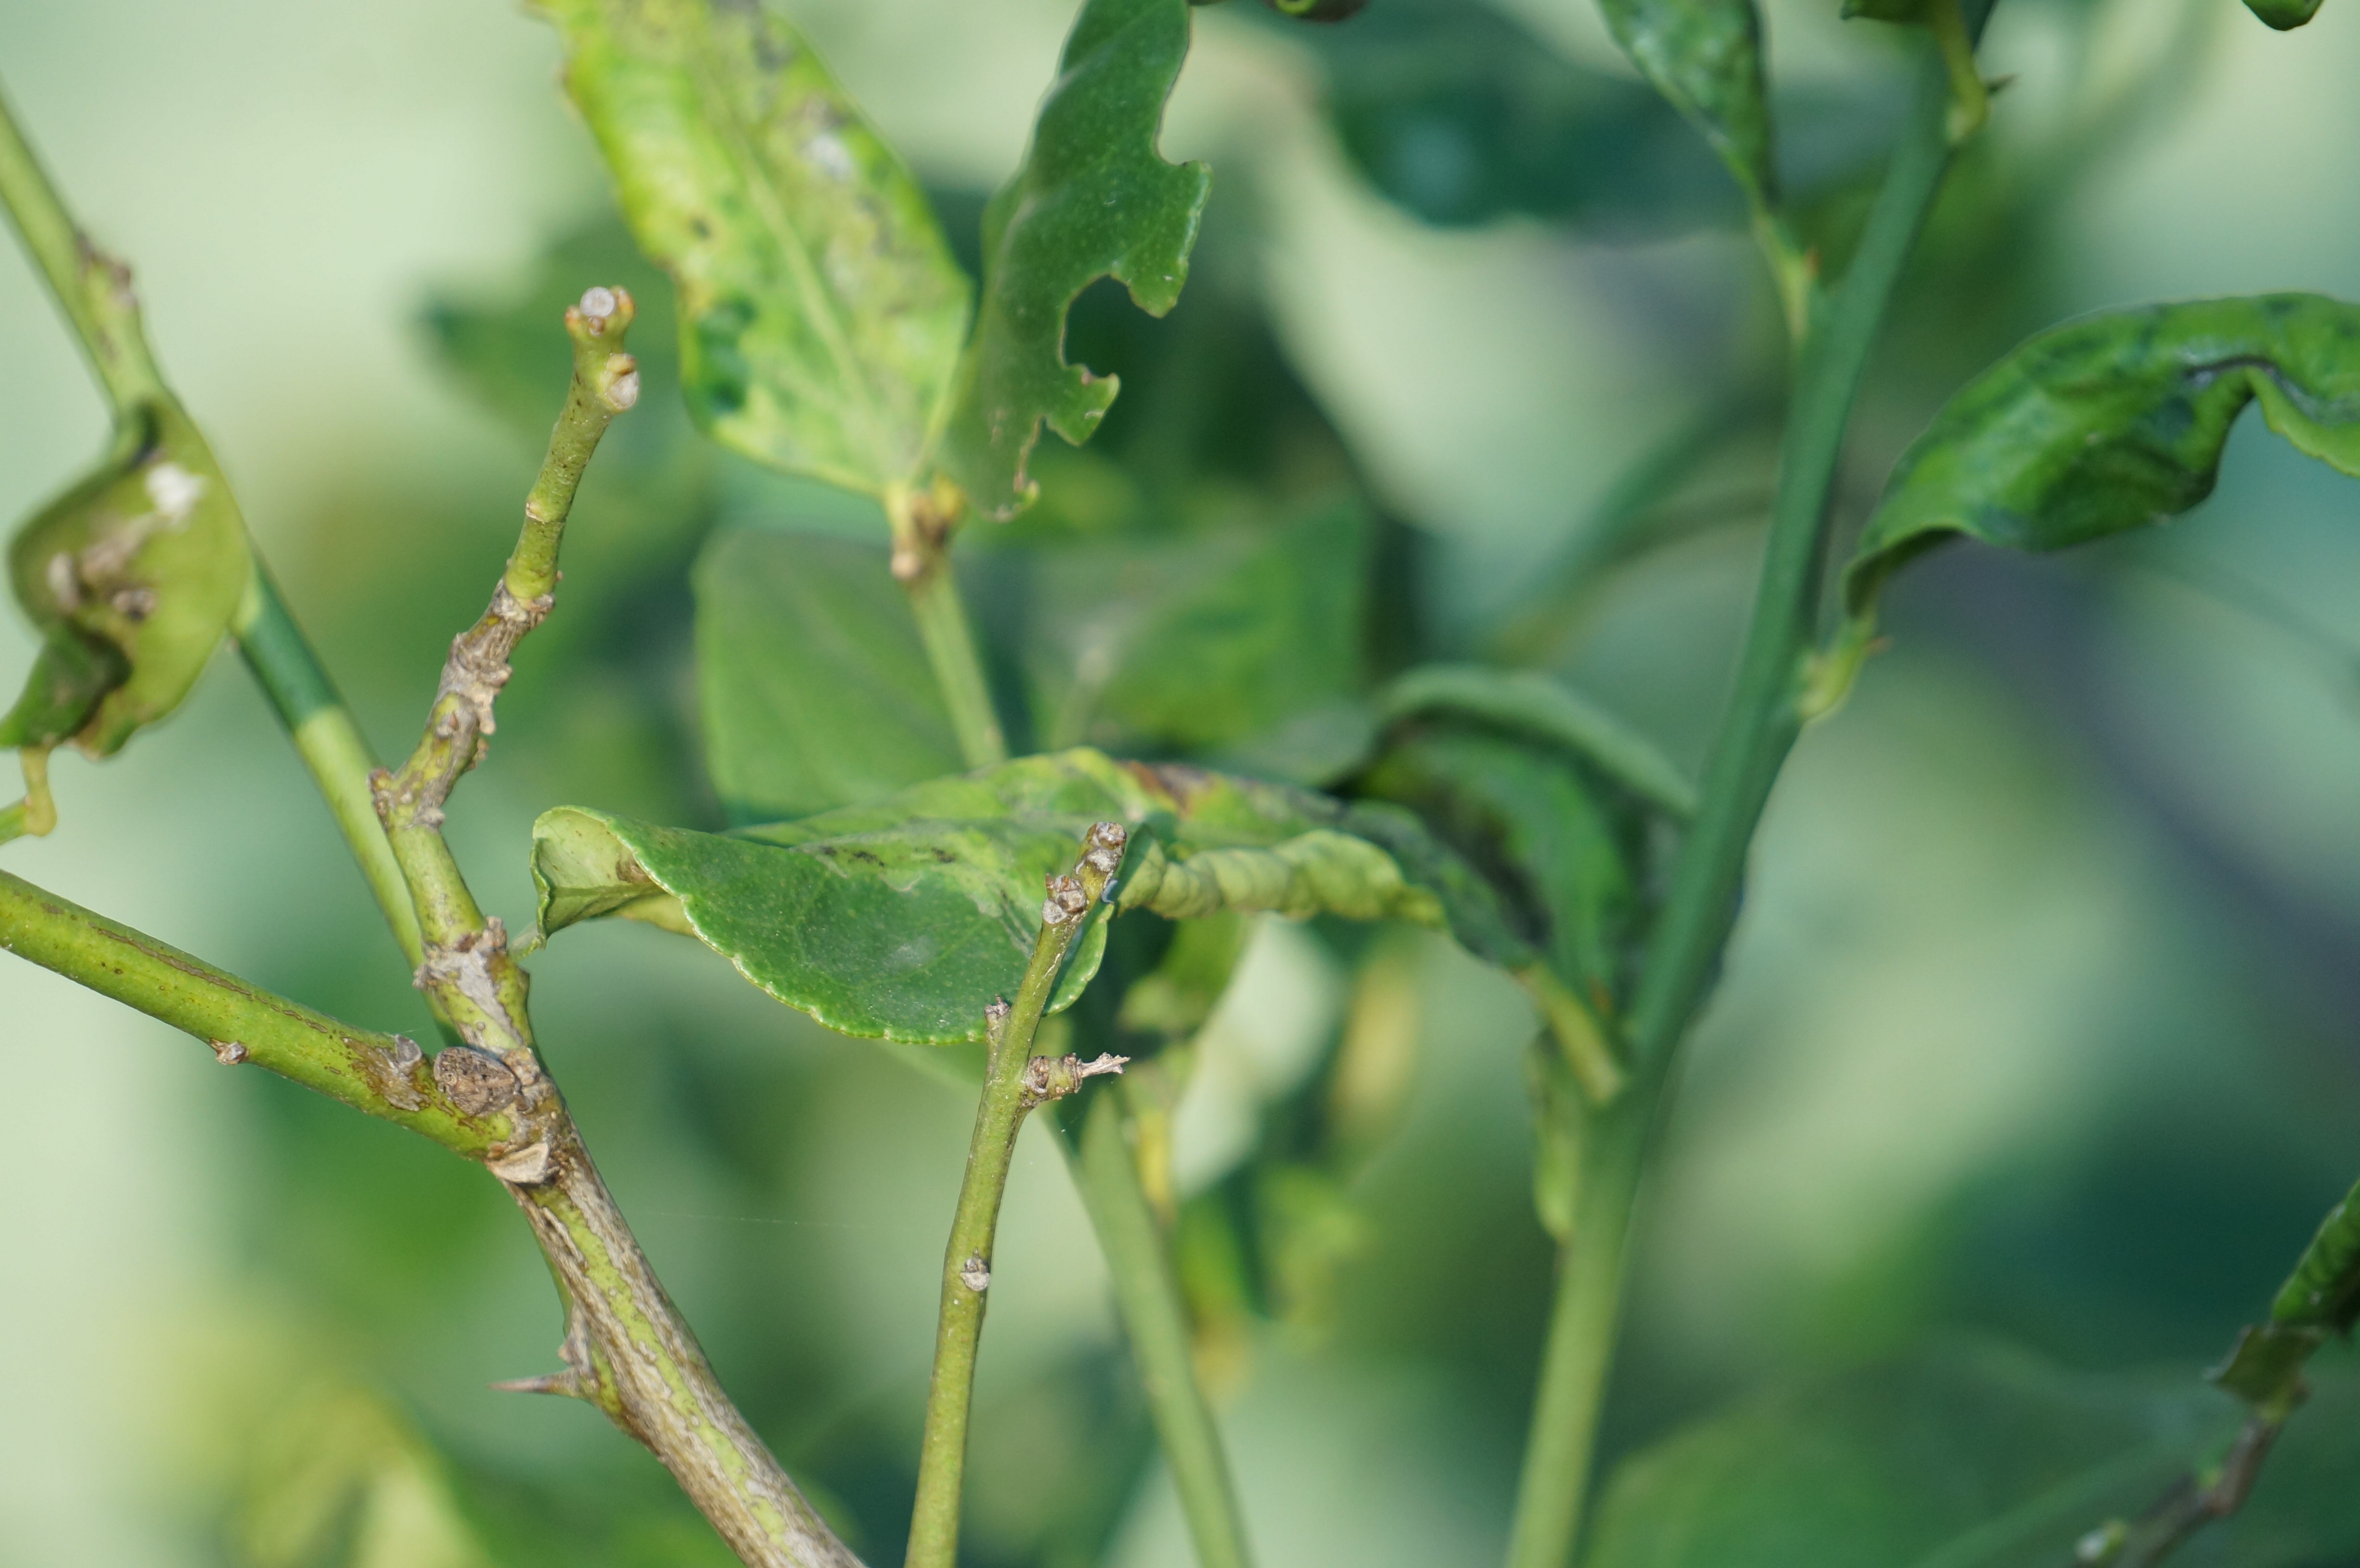curly: (1833, 278, 2360, 660), (1069, 761, 1547, 987)
